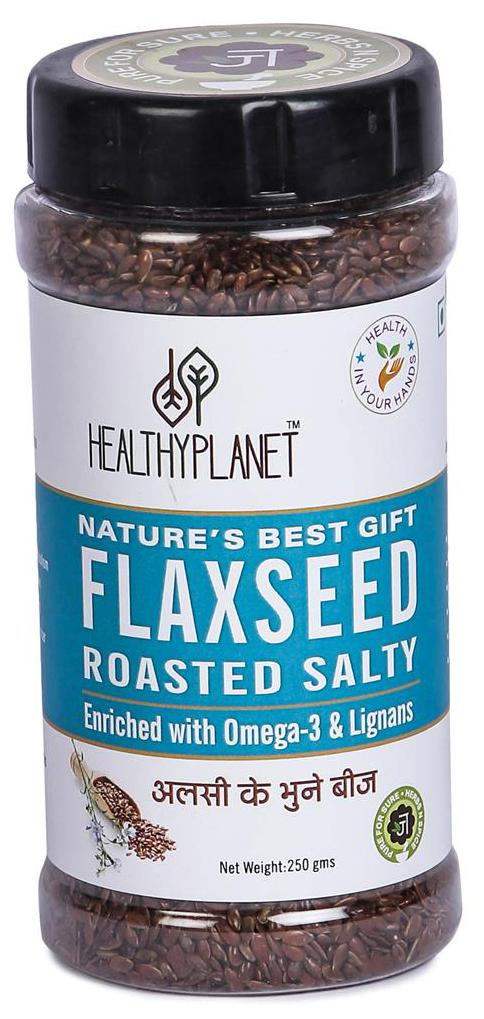JAR: (8, 15, 464, 1001)
